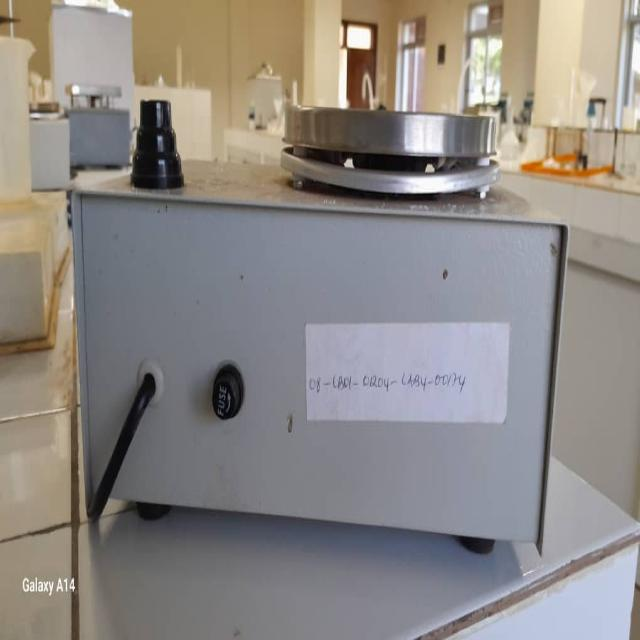Magnetic Stirrer: (68, 87, 570, 503)
